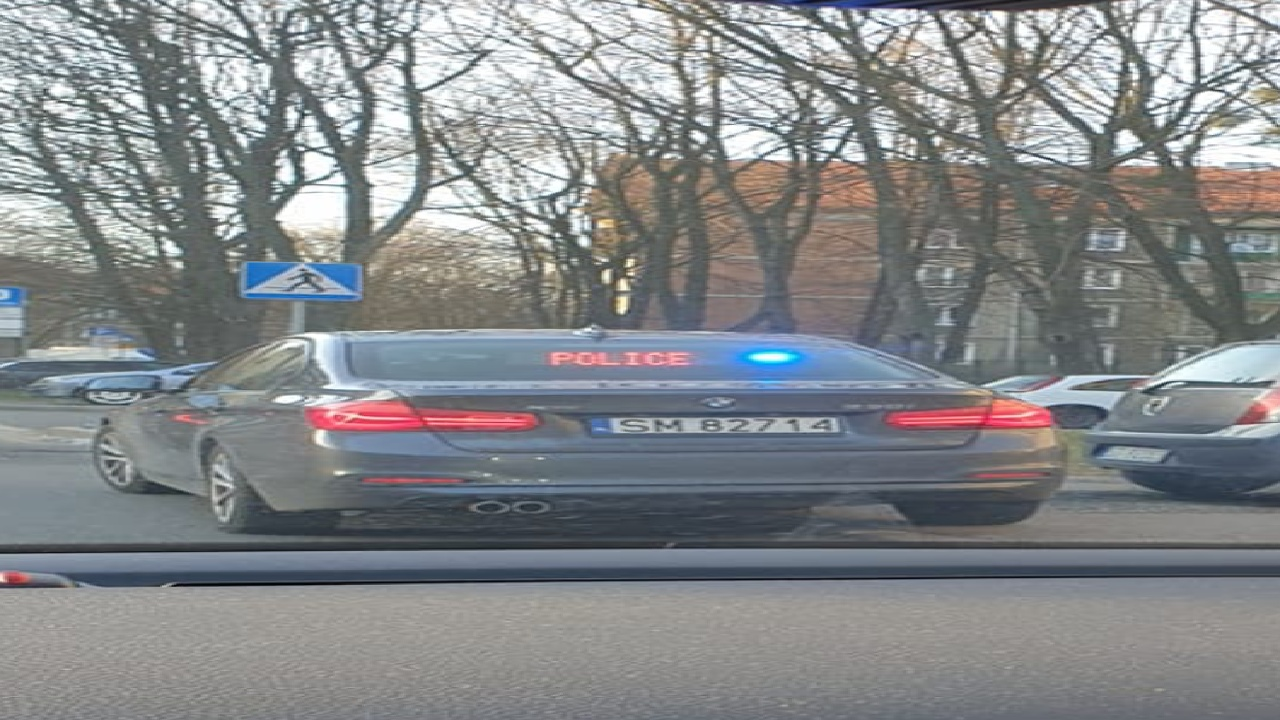D6: (235, 258, 378, 309)
